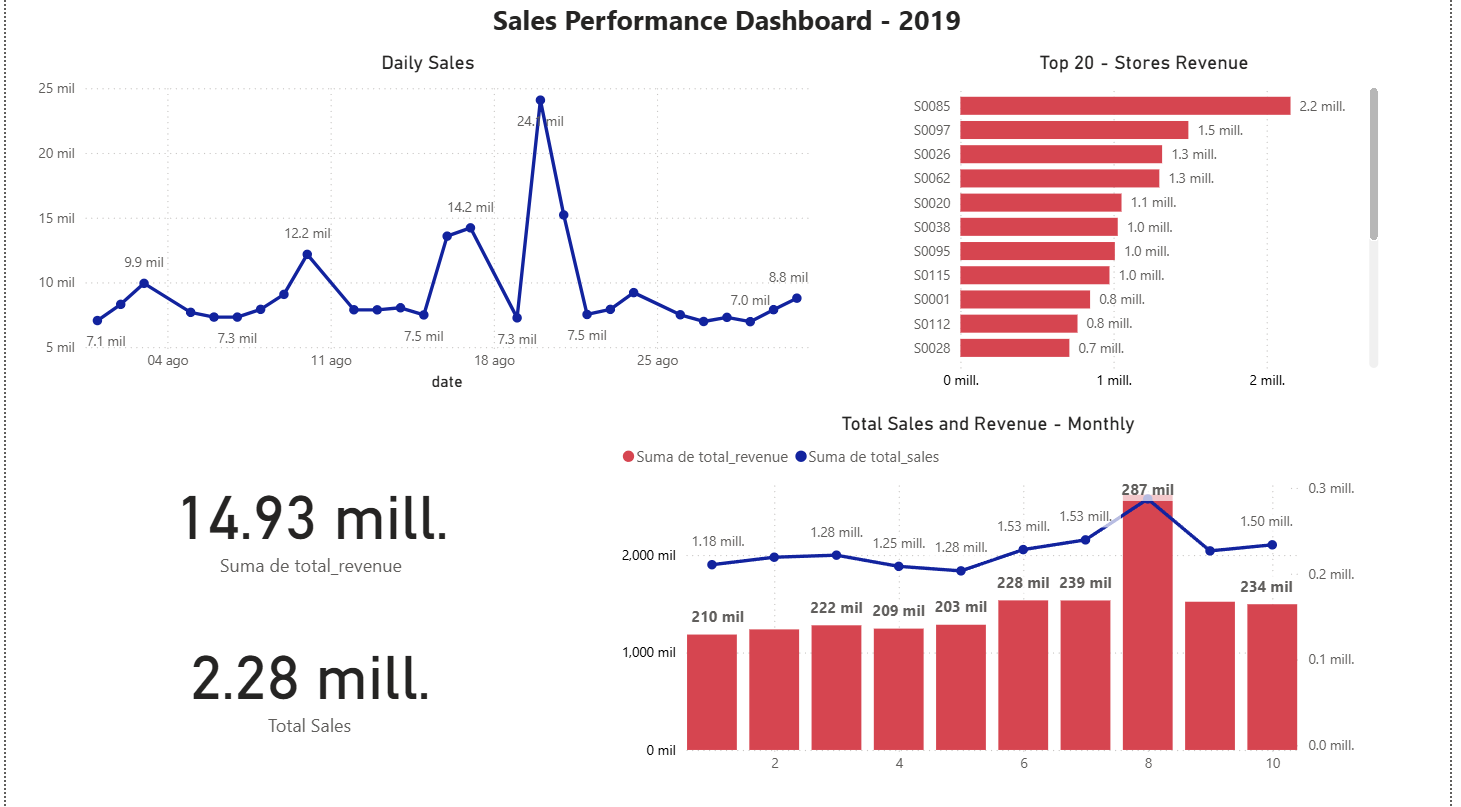

The dashboard page shown, as its layout file describes it:
{"tool":"powerbi","page":{"name":"Página 1","canvas":[1280,720],"ordinal":0},"visuals":[{"type":"clusteredBarChart","title":"Top 20 - Stores Revenue","fields":{"Category":["gold_sales_store.store_id"],"Y":["Sum(gold_sales_store.total_revenue)"]},"box":[796.7,50,425.6,310],"z":0},{"type":"lineChart","title":"Daily Sales","fields":{"Category":["gold_sales_day.date"],"Y":["Sum(gold_sales_day.total_sales)"]},"box":[23.3,50,702.2,305.6],"z":1000},{"type":"lineClusteredColumnComboChart","title":"Total Sales and Revenue - Monthly","fields":{"Y":["Sum(gold_sales_day.total_revenue)"],"Y2":["Sum(gold_sales_day.total_sales)"],"Category":["Calendar.Mes"]},"box":[541.1,370,660,330],"z":2000},{"type":"card","fields":{"Values":["Sum(gold_sales_day.total_revenue)"]},"box":[96.2,403.8,347.5,127.5],"z":3000},{"type":"card","fields":{"Values":["Sum(gold_sales_day.total_sales)"]},"box":[107.5,545,323.8,127.5],"z":4000},{"type":"textbox","box":[392.2,0,494.4,50],"z":5000}]}

Visuals, with their boxes in screenshot pixels (x1, y1, x2, y2), scaled from the page's 1280x720 canvas onto the 1461x807 screenshot:
"Top 20 - Stores Revenue" clusteredBarChart: 909 56 1395 404
"Daily Sales" lineChart: 27 56 828 399
"Total Sales and Revenue - Monthly" lineClusteredColumnComboChart: 618 415 1371 785
card - Sum(gold_sales_day.total_revenue): 110 453 506 595
card - Sum(gold_sales_day.total_sales): 123 611 492 754
textbox: 448 0 1012 56
